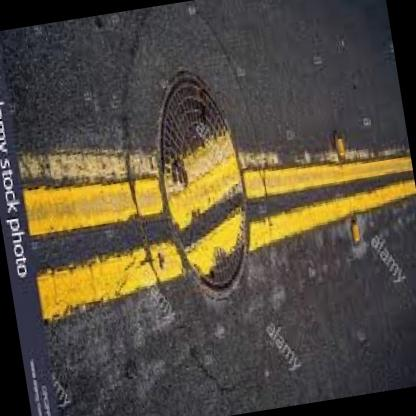manholes: (127, 41, 290, 362)
